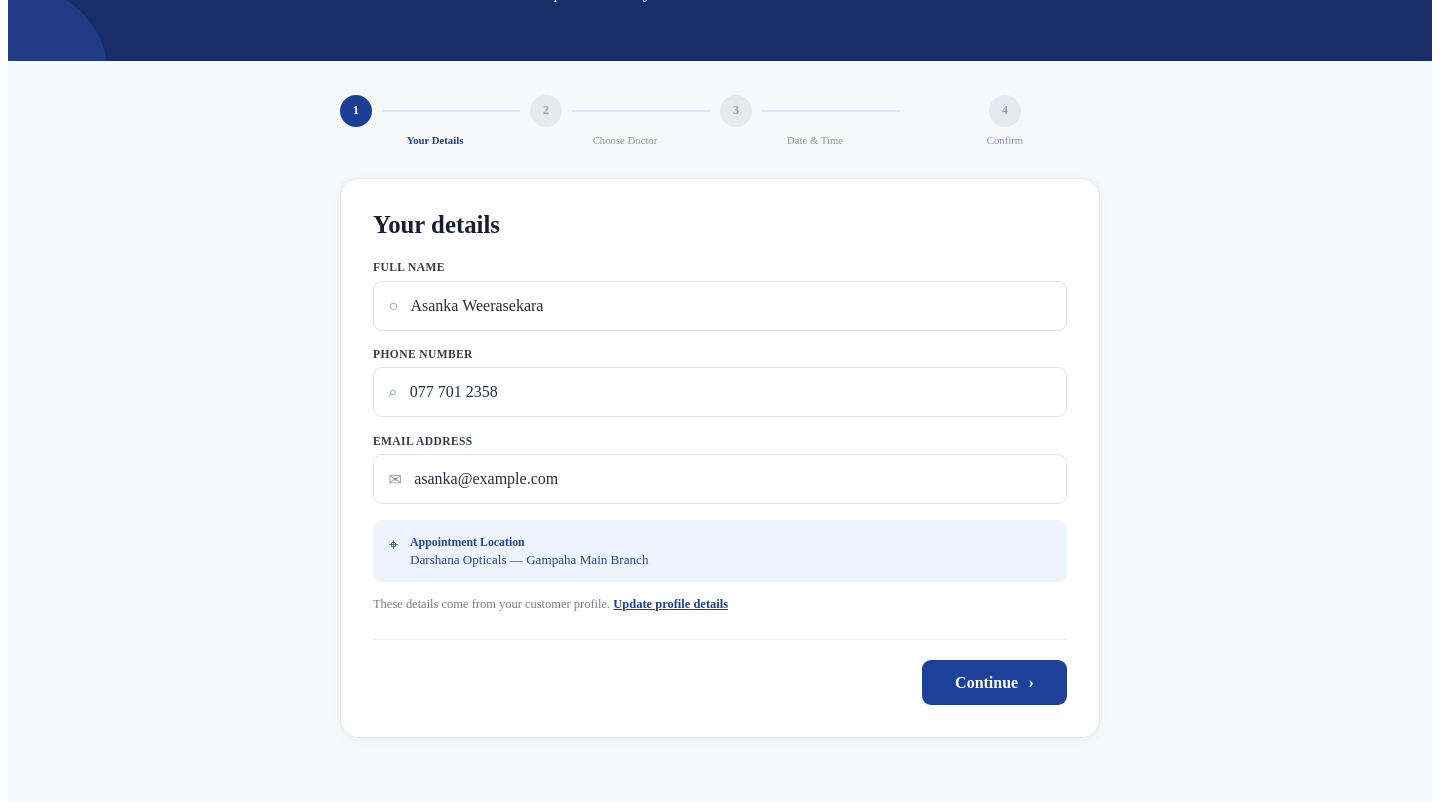
Test: AppointmentBookingPage › shows the customer, Doctor and selected session before confirmation
This screenshot has width=1440, height=810.
(page scrolled)
Expected: the field showing "Asanka Weerasekara" is shown, [408,296,1052,316]
Click the button "Continue ›" at (994, 683), box [922,660,1067,705]
(page scrolled)
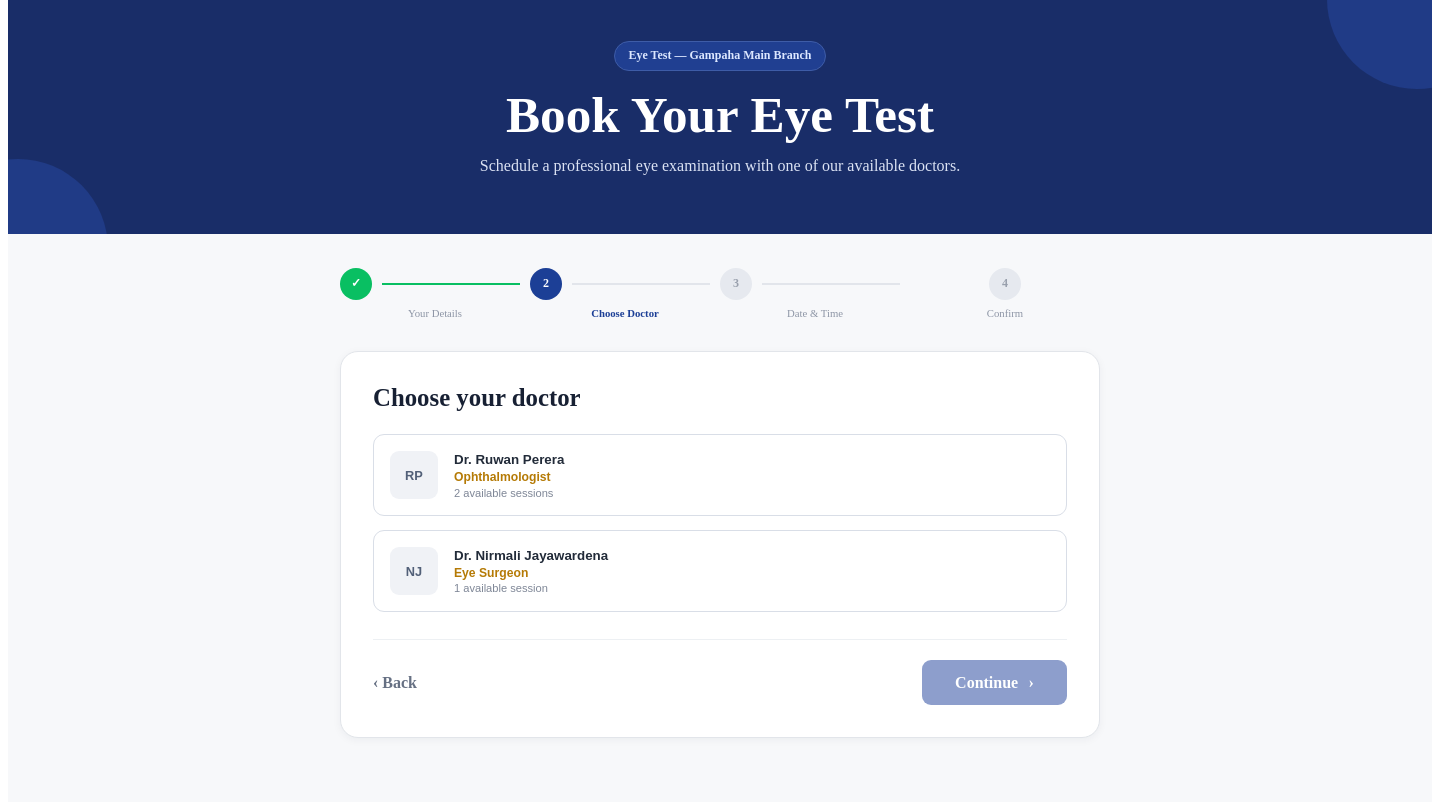
Click the button "RP Dr. Ruwan Perera Ophthalmologist 2 available sessions" at (414, 475), box [373,434,1067,516]
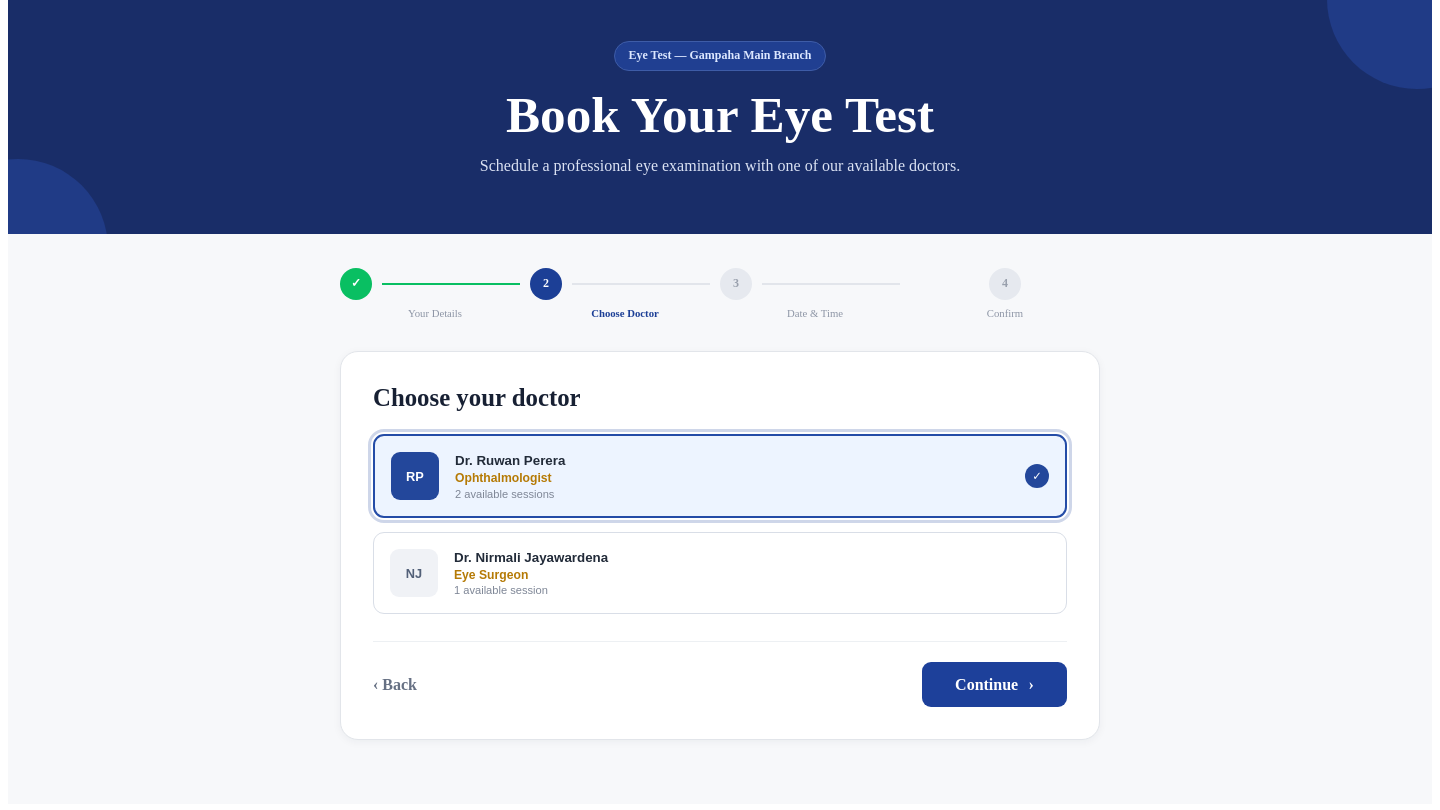
Click the button "Continue ›" at (994, 685), box [922,662,1067,707]
(page scrolled)
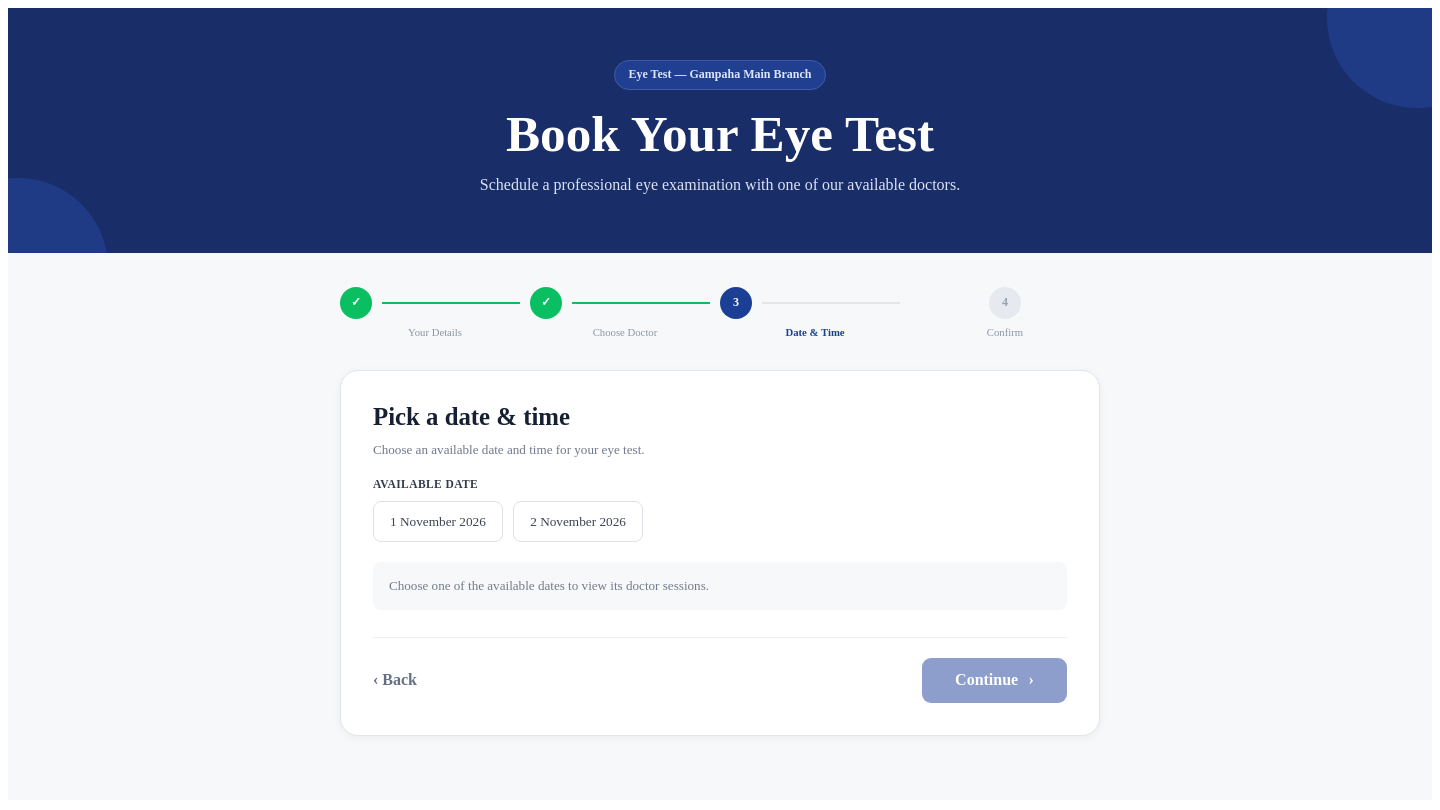
Click the button "1 November 2026" at (438, 522), box [373,502,503,542]
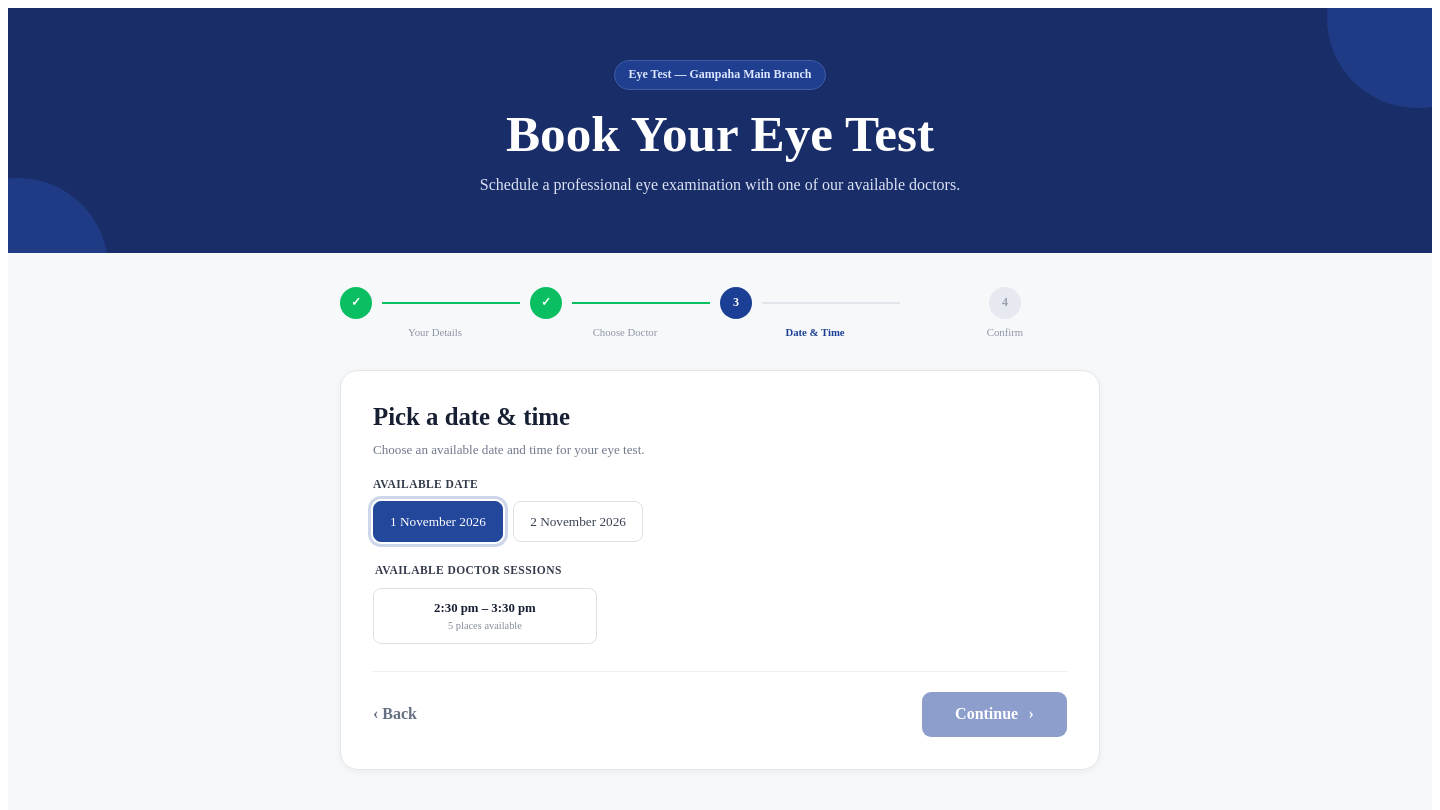
Click the radio button labelled "2:30 pm – 3:30 pm 5 places available" at (485, 616), box [373,588,597,644]
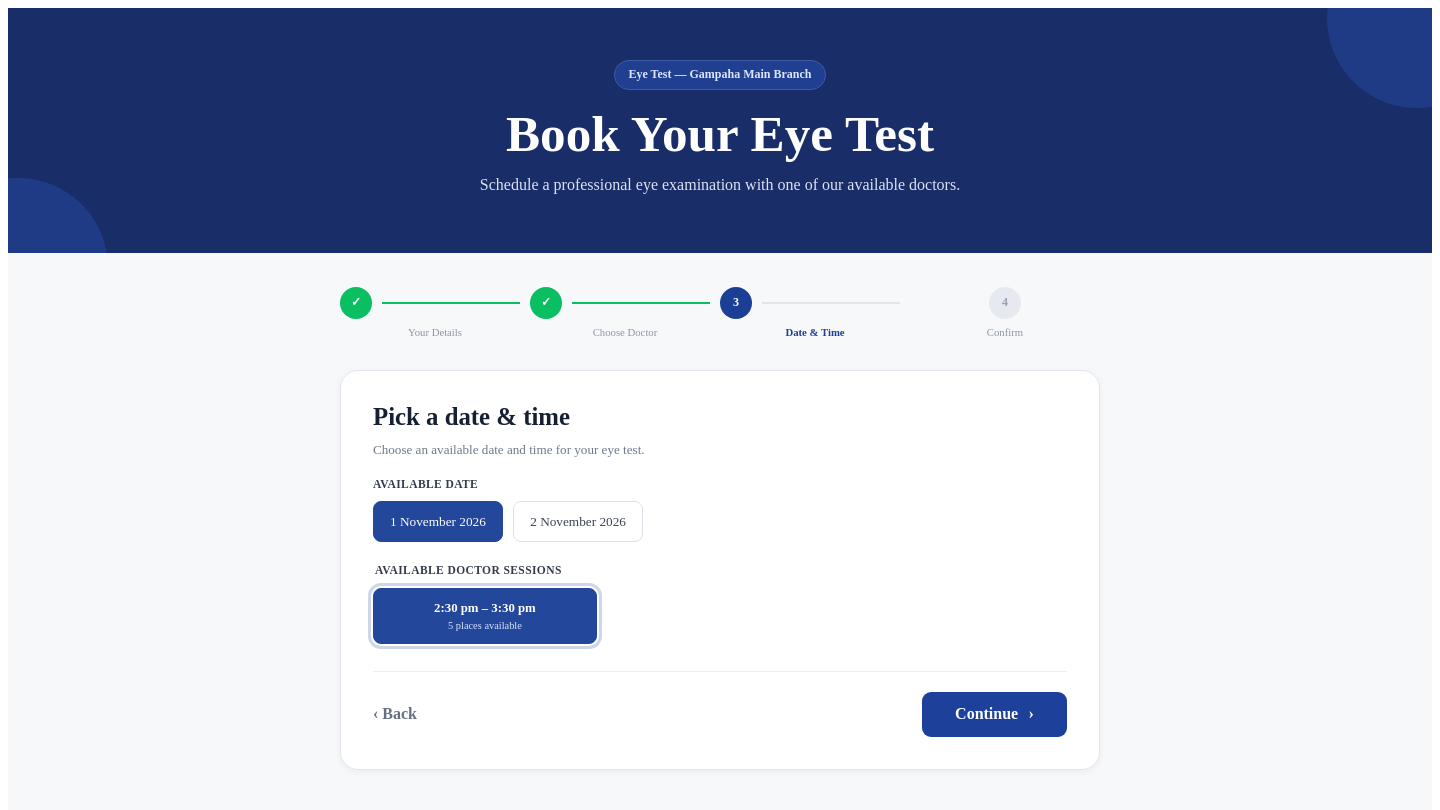
Click the button "Continue ›" at (994, 714), box [922,692,1067,737]
(page scrolled)
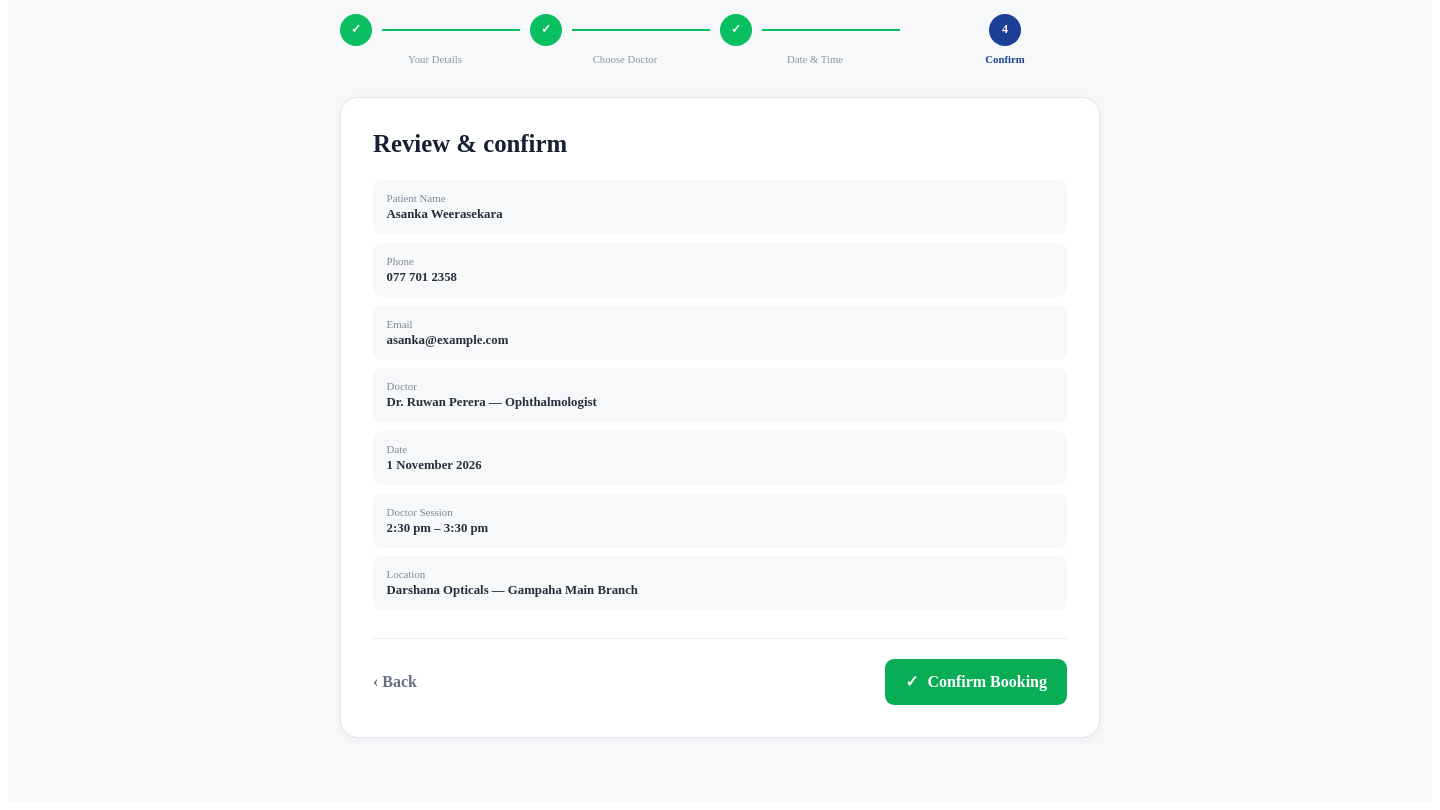
Now the heading "Review & confirm" is shown, box [373,130,567,157]
Now the text "Asanka Weerasekara" is shown, box [387,207,503,221]
Now the text "Dr. Ruwan Perera — Ophthalmologist" is shown, box [387,395,597,409]
